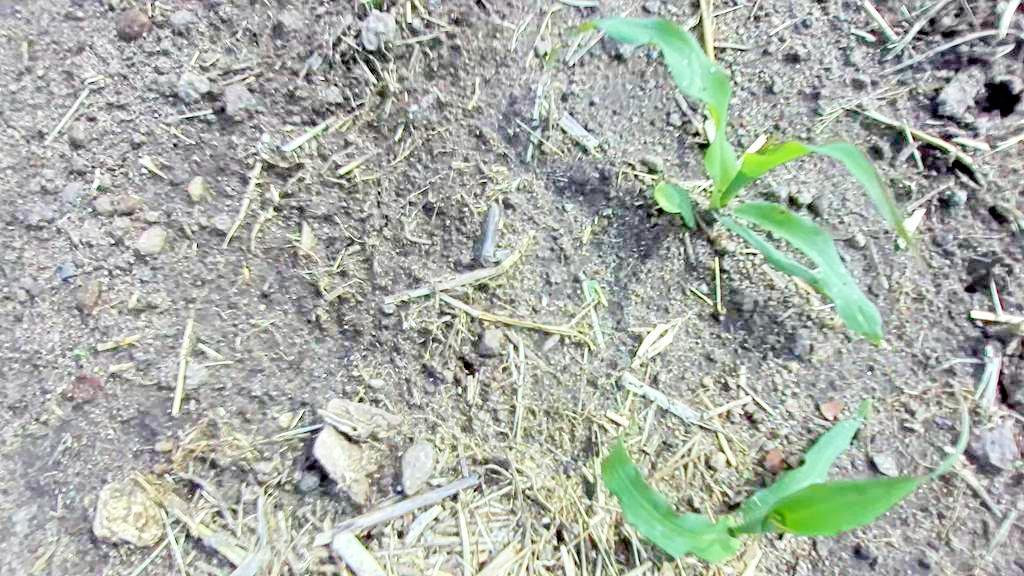BroWeed: (585, 277, 609, 310)
Maize: (594, 374, 984, 576)
